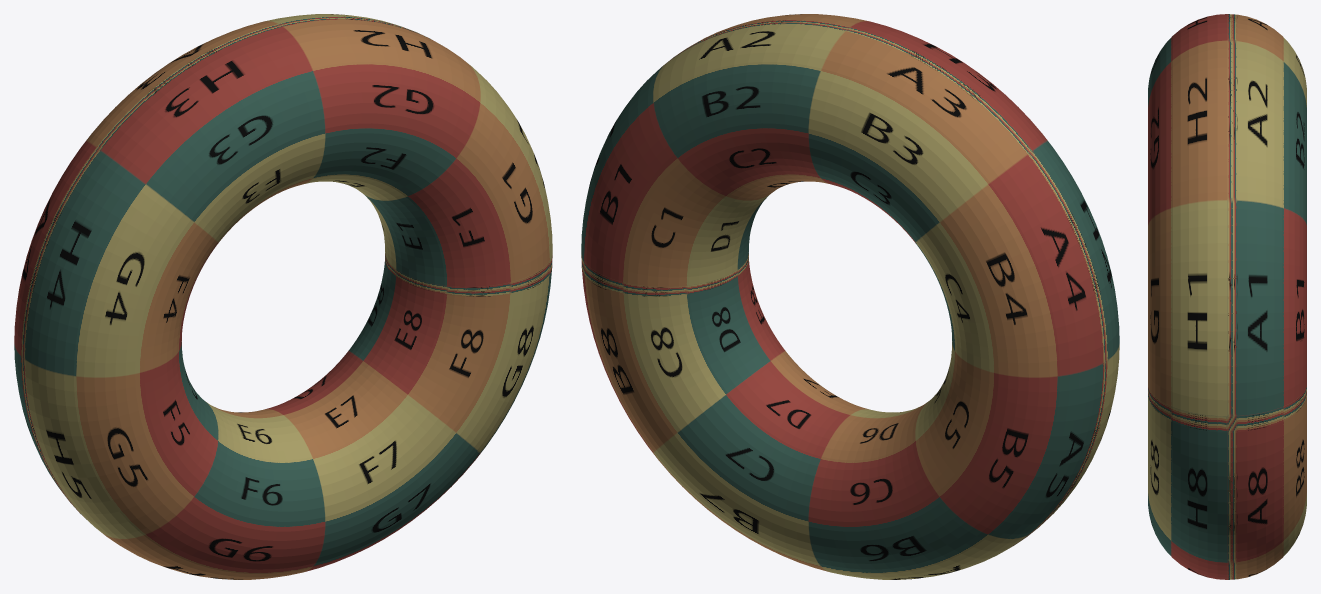
Rendered from texture_torus_R7_r9.glb.
3 views of the same model, side by side, from view 1: azimuth 30°, elevation 25°; view 2: azimuth 150°, elevation 25°; view 3: azimuth 270°, elevation 25° (orthographic). The views are drawn at different scales.
Visible parts, largest first — view 1: world; view 2: world; view 3: world.
Part boxes in pixels (<box>): world: <box>14,14,552,579</box>; world: <box>581,14,1119,579</box>; world: <box>1148,14,1306,579</box>.
Size of the model in its own units: 35.56 by 35.56 by 9.98.
Materials: 1 (1 with a texture image).
